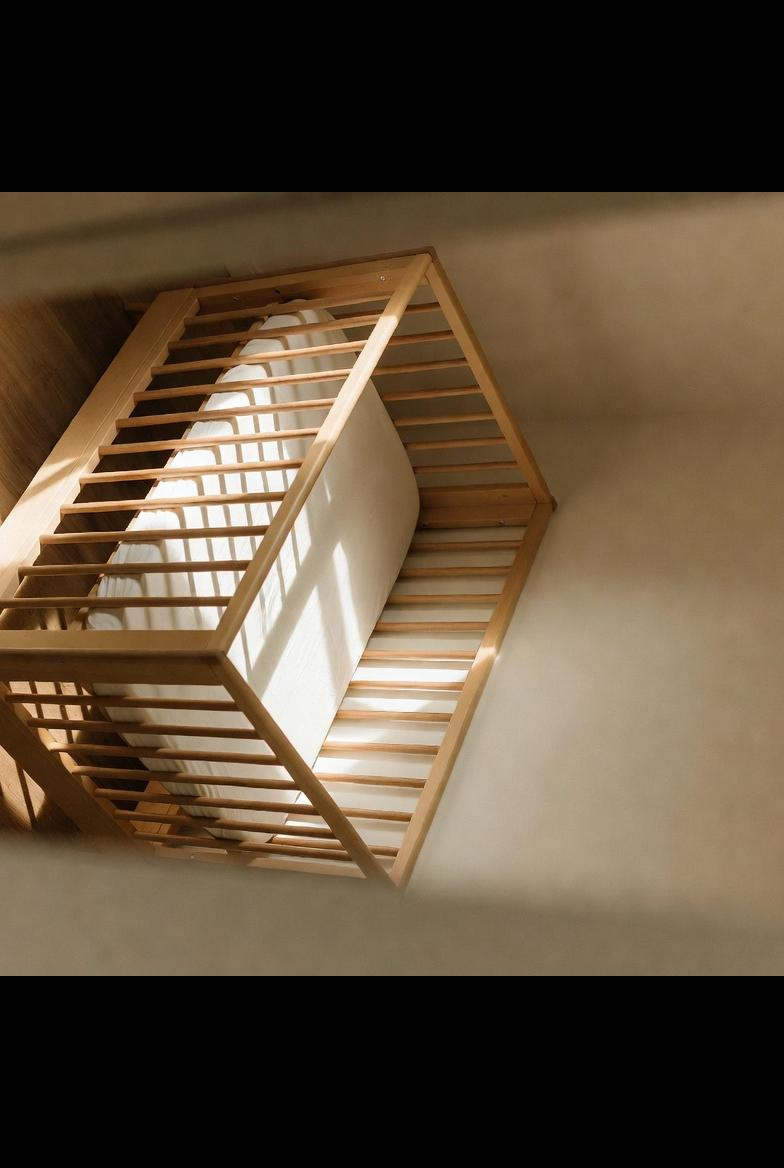crib: (0, 252, 553, 885)
